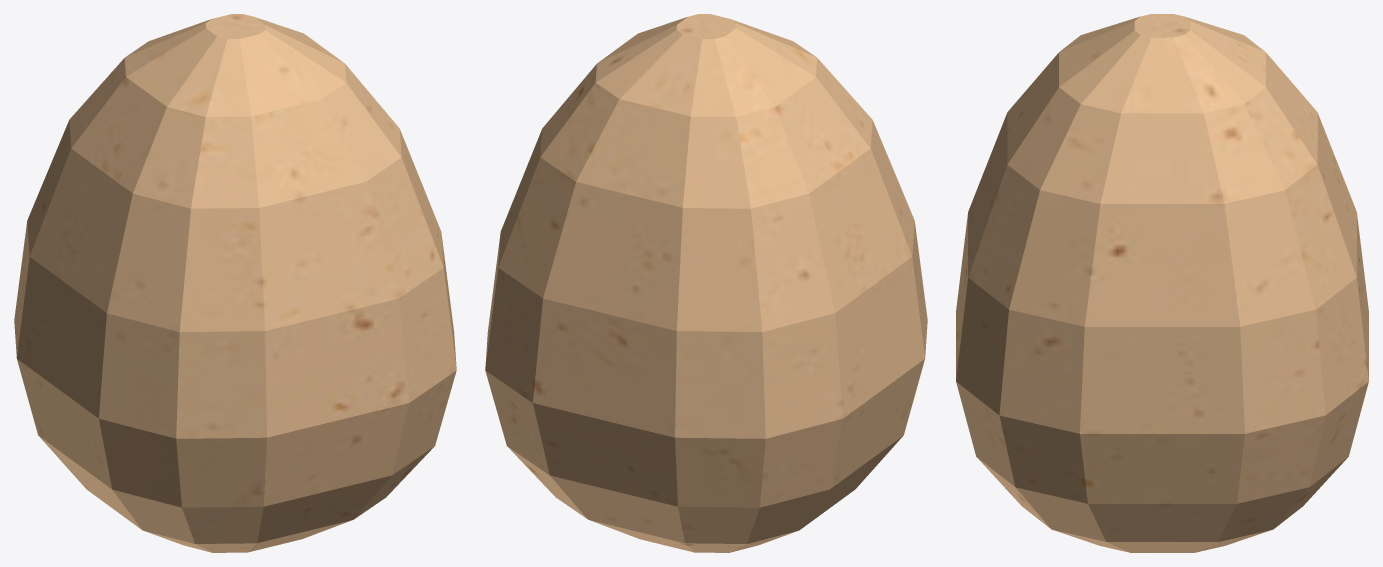
Rendered from egg.fbx.
3 renders of one model, left to right at view 1: azimuth 30°, elevation 25°; view 2: azimuth 150°, elevation 25°; view 3: azimuth 270°, elevation 25°, orthographic.
Visible parts, largest first — view 1: Cube; view 2: Cube; view 3: Cube.
Boxes of the visible parts, left/top/right/bottom form: Cube: left=14, top=14, right=456, bottom=552; Cube: left=485, top=14, right=927, bottom=552; Cube: left=956, top=14, right=1368, bottom=552.
Size of the model in its own units: 200 by 264 by 200.
